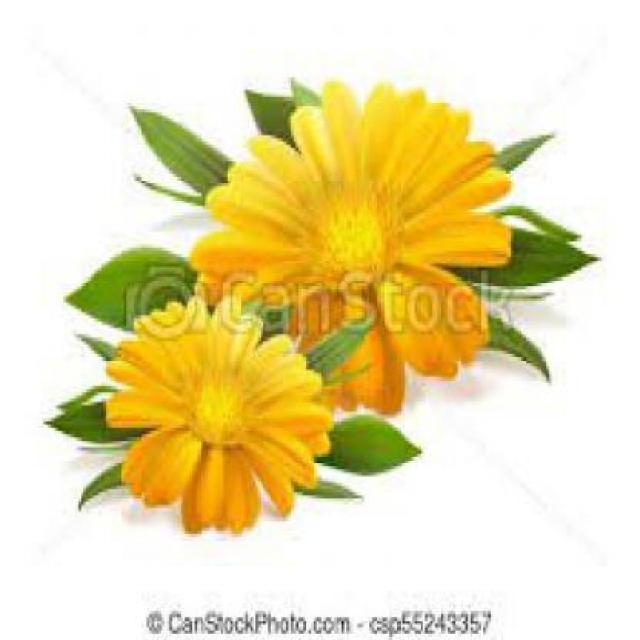Flower: (185, 80, 514, 422), (103, 295, 337, 537)
